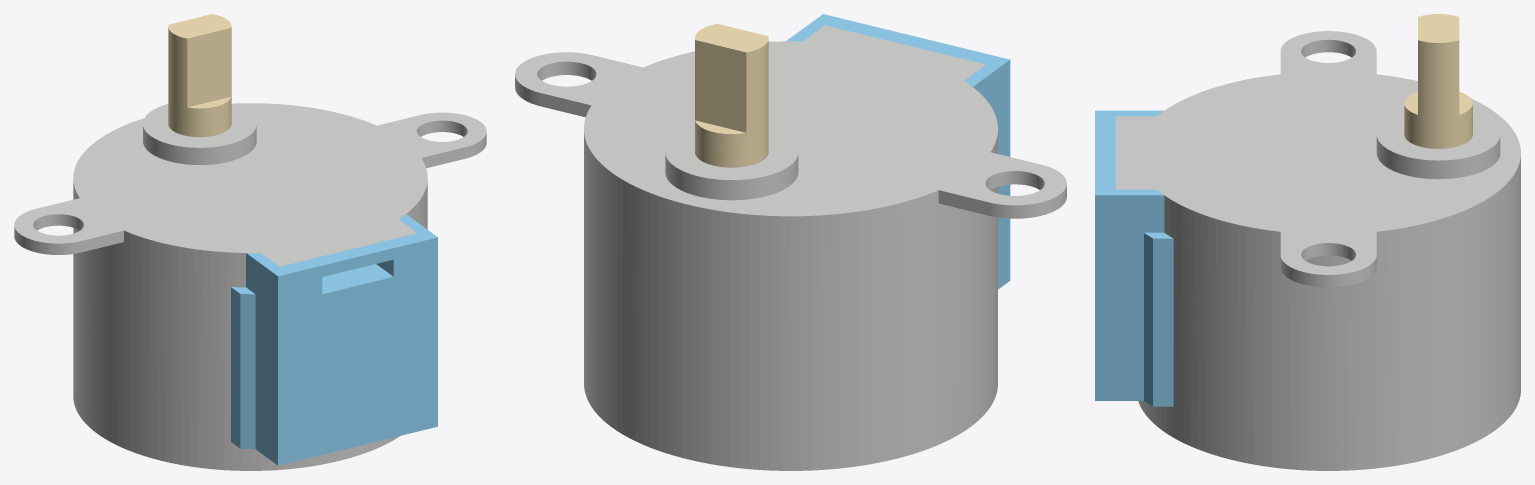
Rendered from 28BYJ-48.gltf.
3 renders of one model, left to right at view 1: azimuth 30°, elevation 25°; view 2: azimuth 150°, elevation 25°; view 3: azimuth 270°, elevation 25°, orthographic. The views are drawn at different scales.
Parts seen in each view (by area): view 1: Node3, Node2, Node1; view 2: Node3, Node1, Node2; view 3: Node3, Node2, Node1.
Boxes of the visible parts, x1,y1,x2,y2 form: Node3: (14,103,486,470); Node2: (231,214,437,465); Node1: (168,14,231,137); Node3: (515,25,1066,470); Node1: (695,23,768,167); Node2: (786,14,1010,289); Node3: (1115,31,1520,470); Node2: (1095,110,1173,406); Node1: (1404,14,1472,148).
Bounding box in the file's own units: 42 × 29 × 31.
